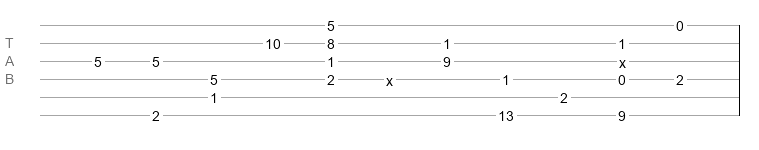0: (618, 72, 626, 82), (676, 18, 684, 28)
1: (210, 90, 218, 100), (327, 54, 335, 64), (443, 36, 451, 46), (502, 72, 510, 82), (618, 36, 626, 46)
10: (265, 36, 281, 46)
13: (498, 108, 514, 118)
2: (152, 108, 160, 118), (327, 72, 335, 82), (560, 90, 568, 100), (676, 72, 684, 82)
5: (94, 54, 102, 64), (152, 54, 160, 64), (210, 72, 218, 82), (327, 18, 335, 28)
8: (327, 36, 335, 46)
9: (443, 54, 451, 64), (618, 108, 626, 118)
x: (386, 73, 393, 81), (619, 55, 626, 63)
